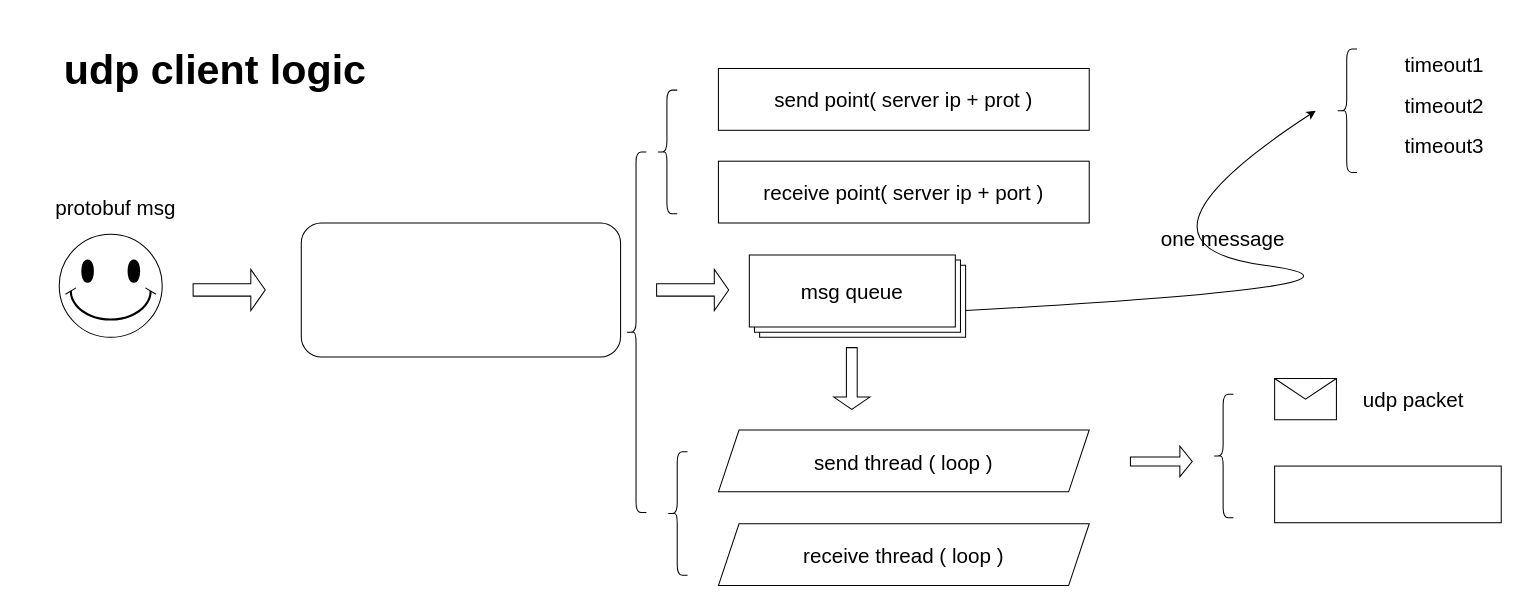
Image size: 1539x604. Some labels were removed from this diagram. Here are the shapes that lost their labels. From the top down, the centre of each, then its label:
At (460,289): "udp client".
At (1387,494): "heart beat(心跳包)".
